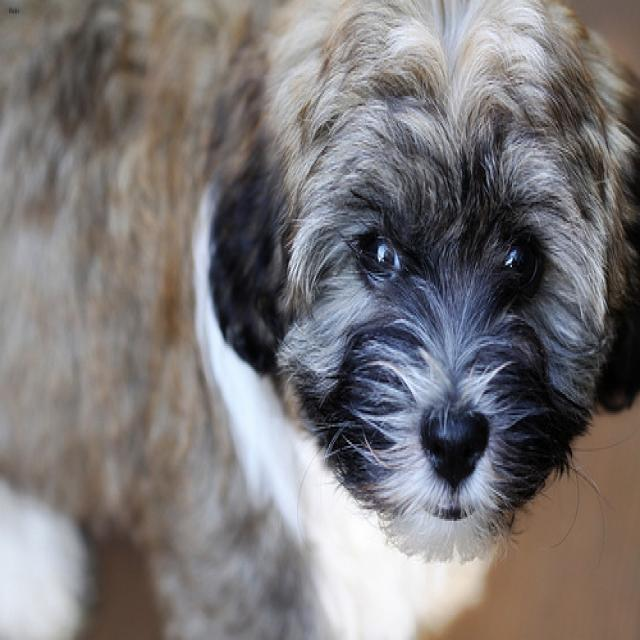dog-havanese: (1, 2, 637, 636)
